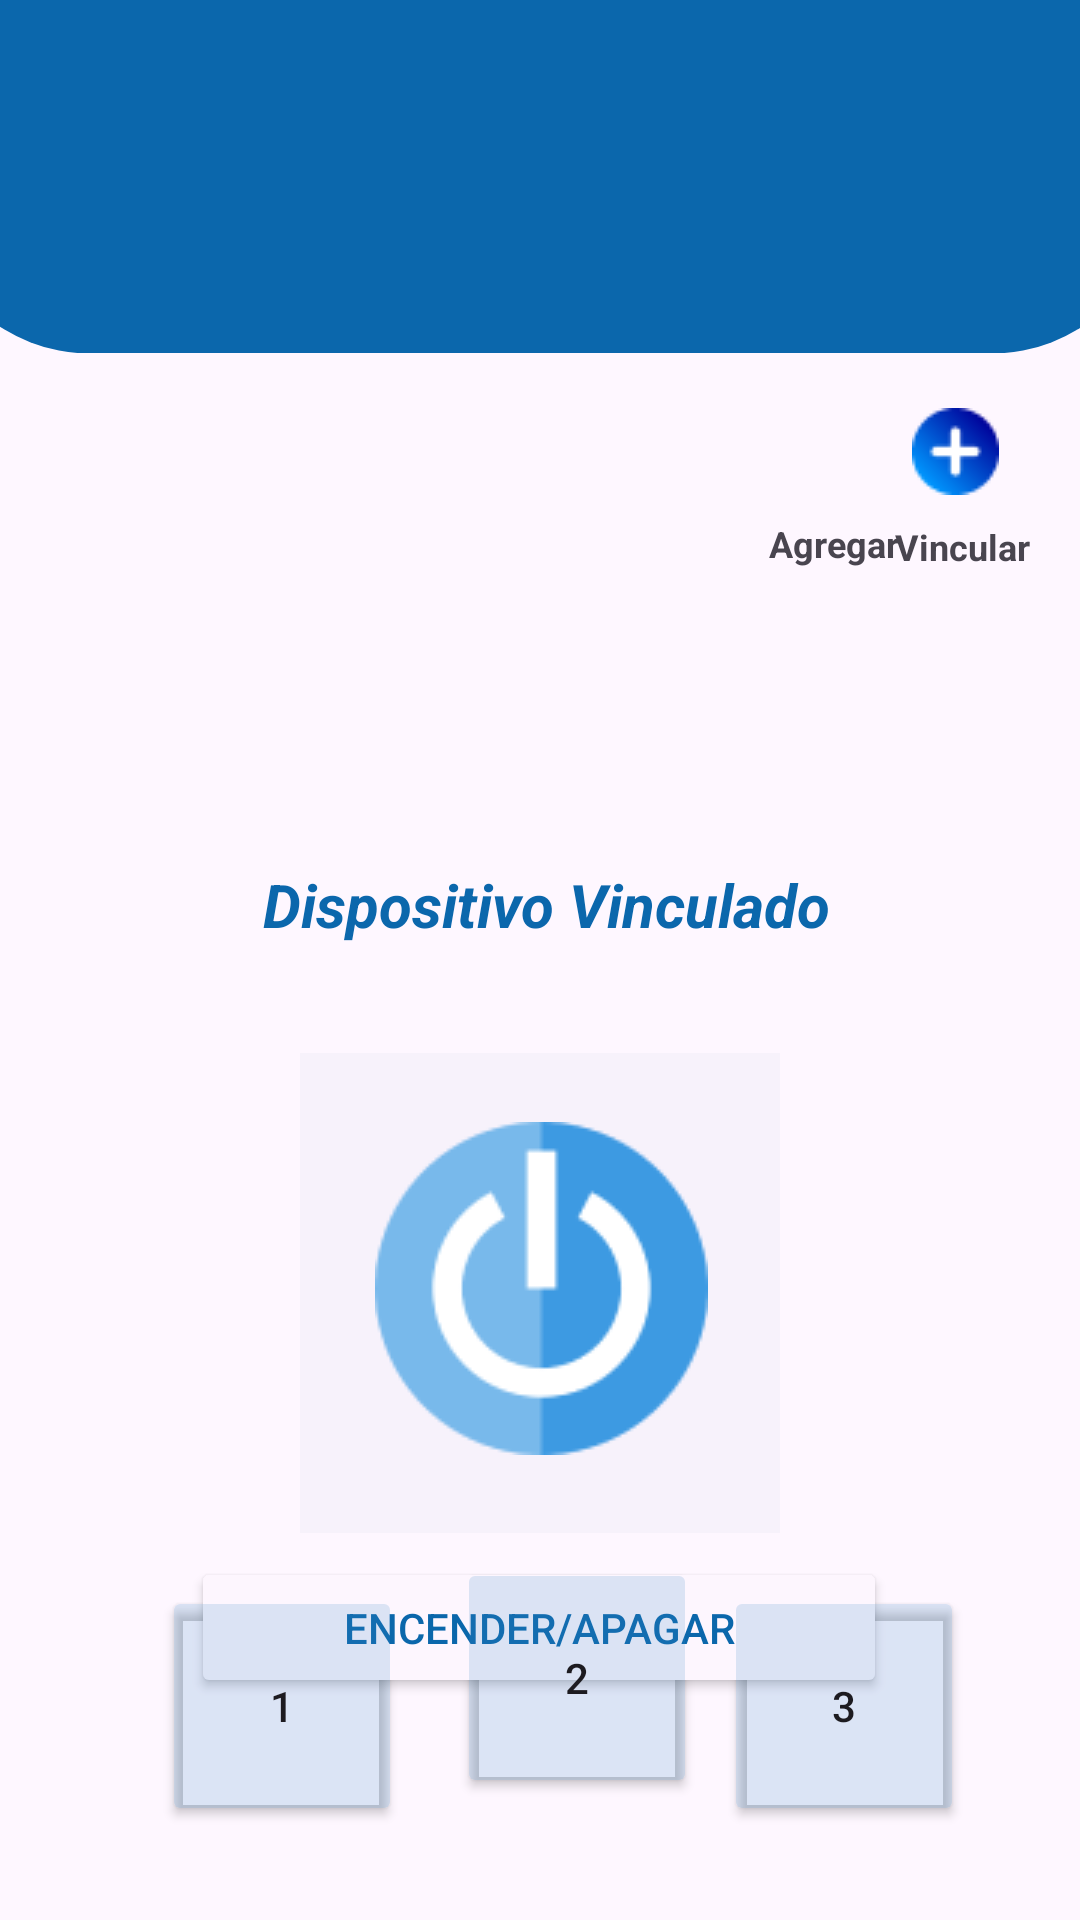

Where icons sit on this 1080w x 1920h app screen, as (left=x1, top=y1, right=x2, bottom=y2):
encendido: (left=375, top=1122, right=708, bottom=1455)
